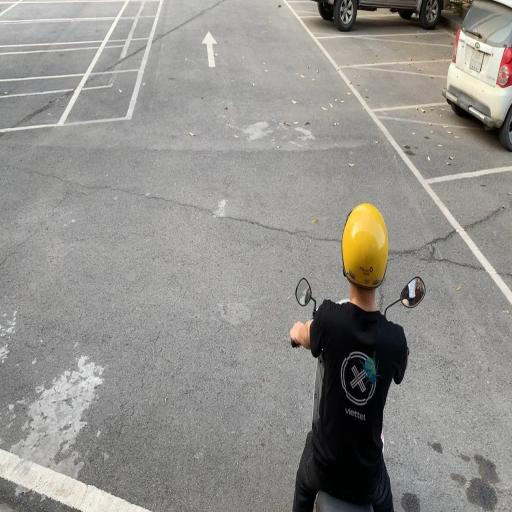bike: (290, 201, 426, 512)
with helmet: (339, 202, 389, 289)
